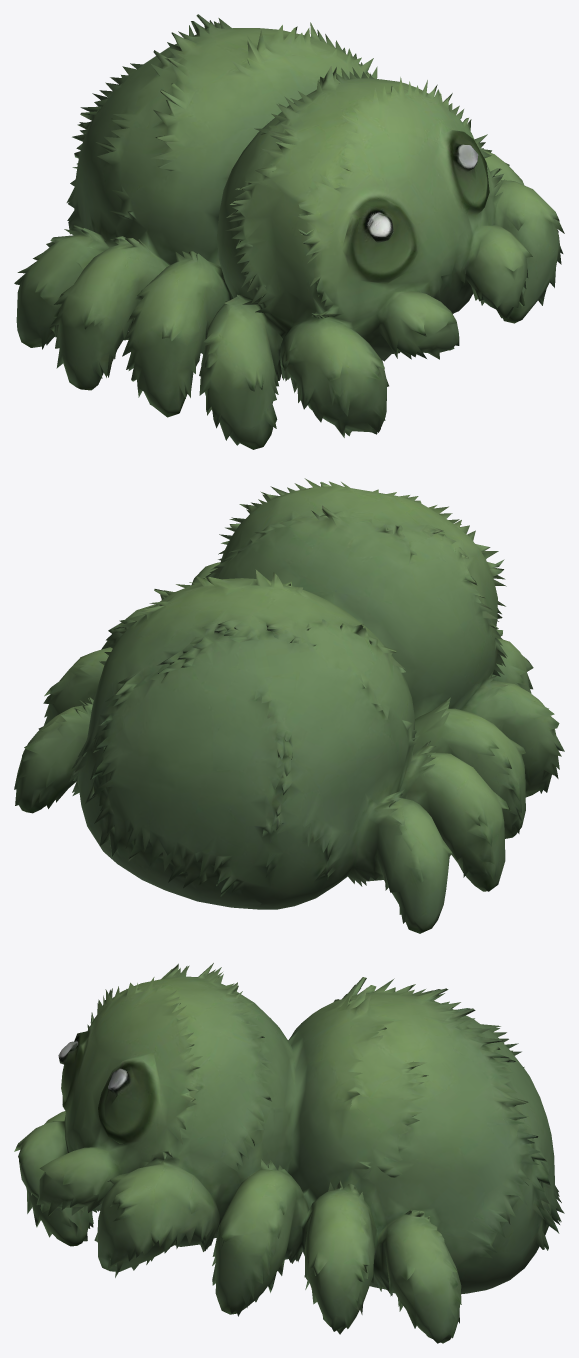
The picture shows the model from 3 angles, top to bottom: view 1: azimuth 30°, elevation 25°; view 2: azimuth 150°, elevation 25°; view 3: azimuth 270°, elevation 25°; orthographic projection. The views are drawn at different scales.
Parts seen in each view (by area): view 1: tripo_node_3c32f630-516c-421e-b808-d79e9aa8a70f; view 2: tripo_node_3c32f630-516c-421e-b808-d79e9aa8a70f; view 3: tripo_node_3c32f630-516c-421e-b808-d79e9aa8a70f.
Part boxes in pixels (bbox=[...]): tripo_node_3c32f630-516c-421e-b808-d79e9aa8a70f: bbox=[14, 14, 564, 449]; tripo_node_3c32f630-516c-421e-b808-d79e9aa8a70f: bbox=[14, 478, 564, 933]; tripo_node_3c32f630-516c-421e-b808-d79e9aa8a70f: bbox=[14, 963, 564, 1343].
Bounding box in the file's own units: 0.907 × 0.597 × 1.
Materials: 1 (1 with a texture image).
